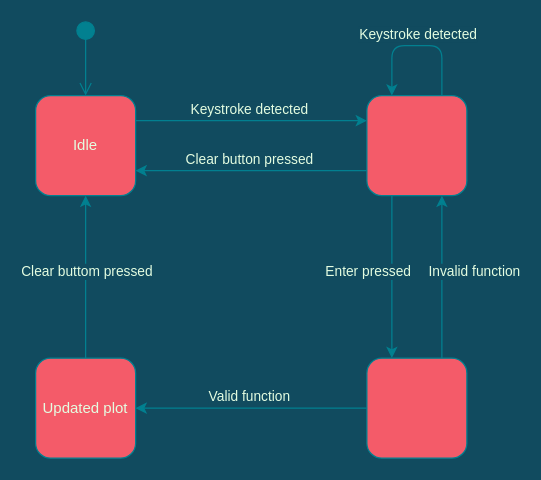
Image size: 541x480. Some labels were removed from this diagram. Each missing label, with the centre of its shape:
"Checking function I/P" goes at point (416, 407).
"Waiting for function I/P" goes at point (416, 145).
